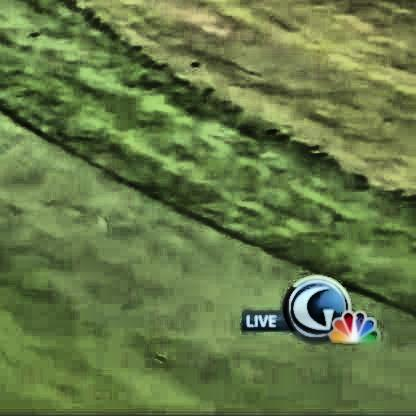golfball: (95, 214, 102, 225)
